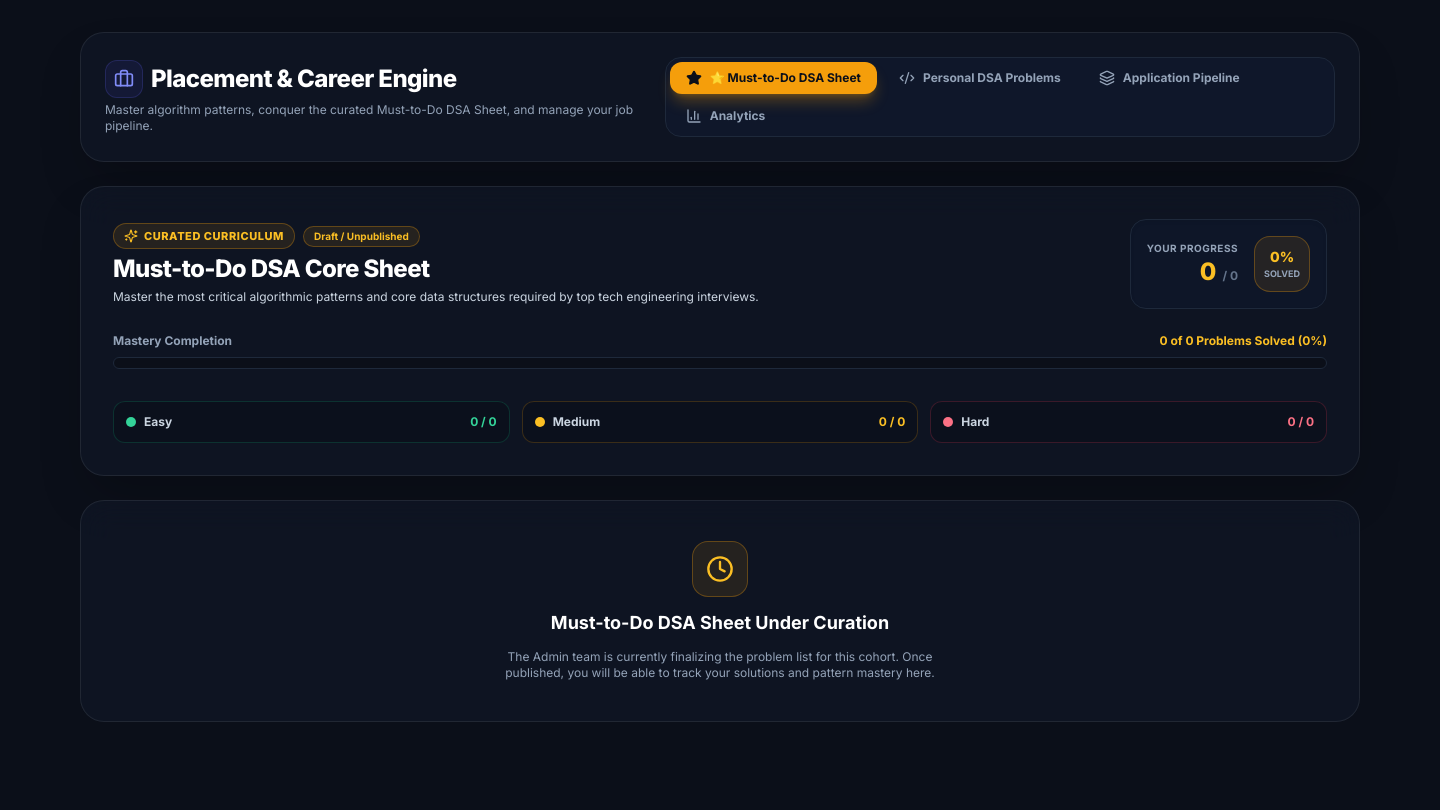
Test case: Placement Preparation & Job Pipeline Module (Level 8) › switches to Application Pipeline tab and renders stage columns and job cards
// Click Application Pipeline tab
Click the button "Application Pipeline".
click(1169, 78)  # box [1083,62,1256,94]
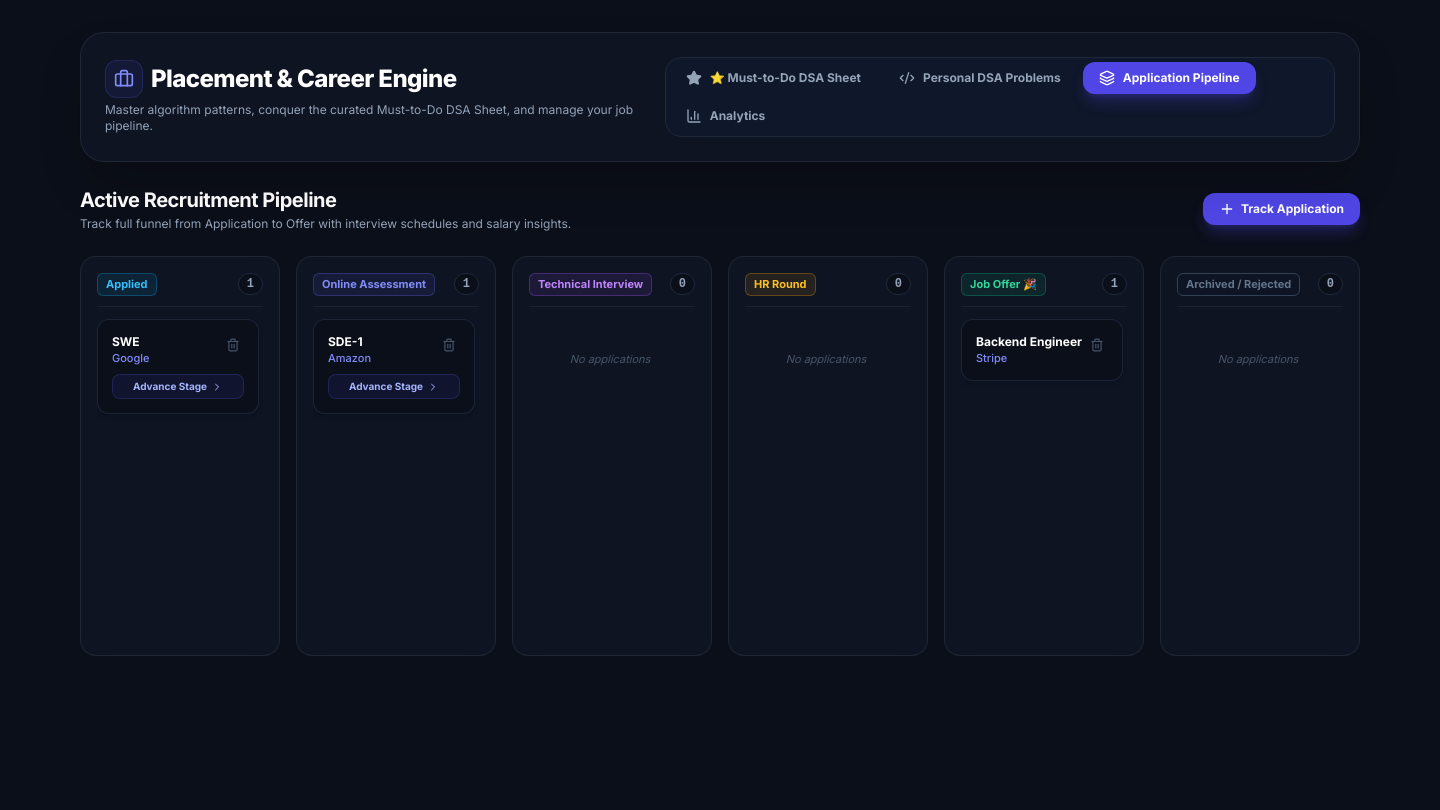
expect the heading "Active Recruitment Pipeline" is shown: met, box [80,188,336,212]
expect the text "Track Application" is shown: met, box [1241,201,1344,217]
expect the text "Applied" is shown: met, box [97,273,156,296]
